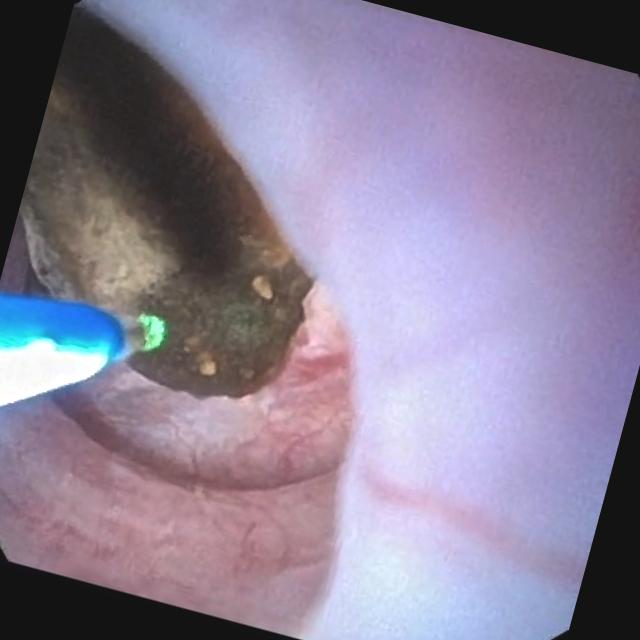laser-fibre: (117, 317, 163, 355)
laser_dot: (224, 310, 266, 347)
stone-new: (19, 11, 311, 398)
